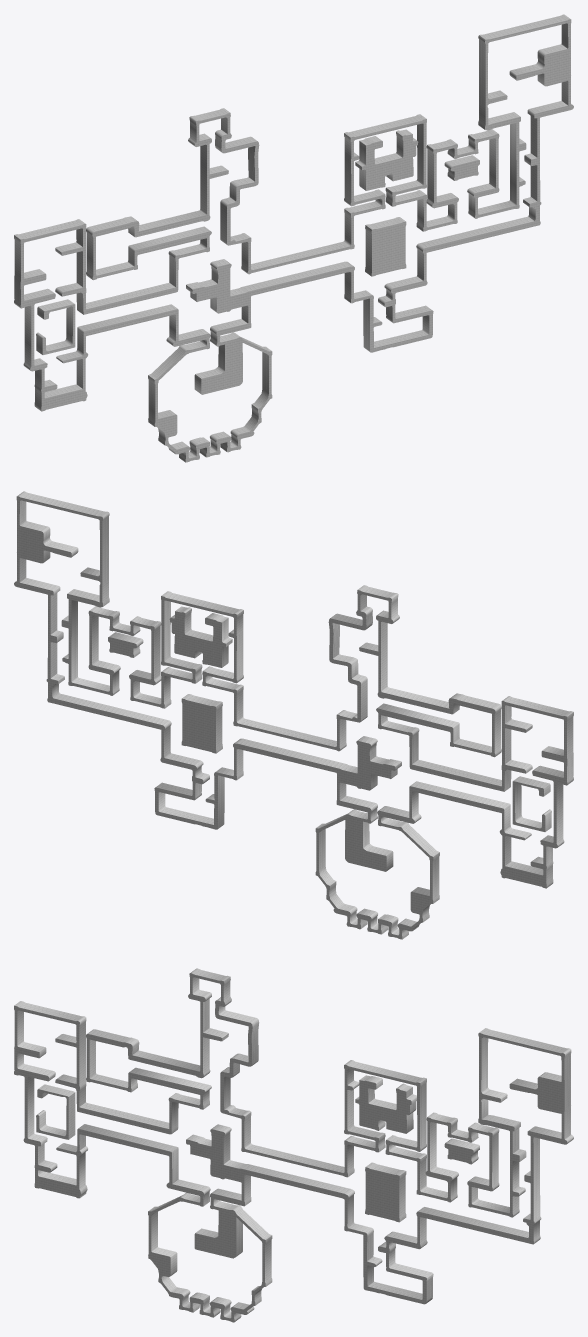
3 renders of one model, top to bottom at view 1: azimuth 30°, elevation 25°; view 2: azimuth 150°, elevation 25°; view 3: azimuth 330°, elevation 25°, orthographic.
Visible parts, largest first — view 1: level1; view 2: level1; view 3: level1.
Part boxes in pixels (<box>): level1: <box>14,14,573,462</box>; level1: <box>14,491,573,939</box>; level1: <box>14,968,573,1322</box>.
Size of the model in its own units: 244 by 147 by 5.
Materials: 1 (1 with a texture image).
